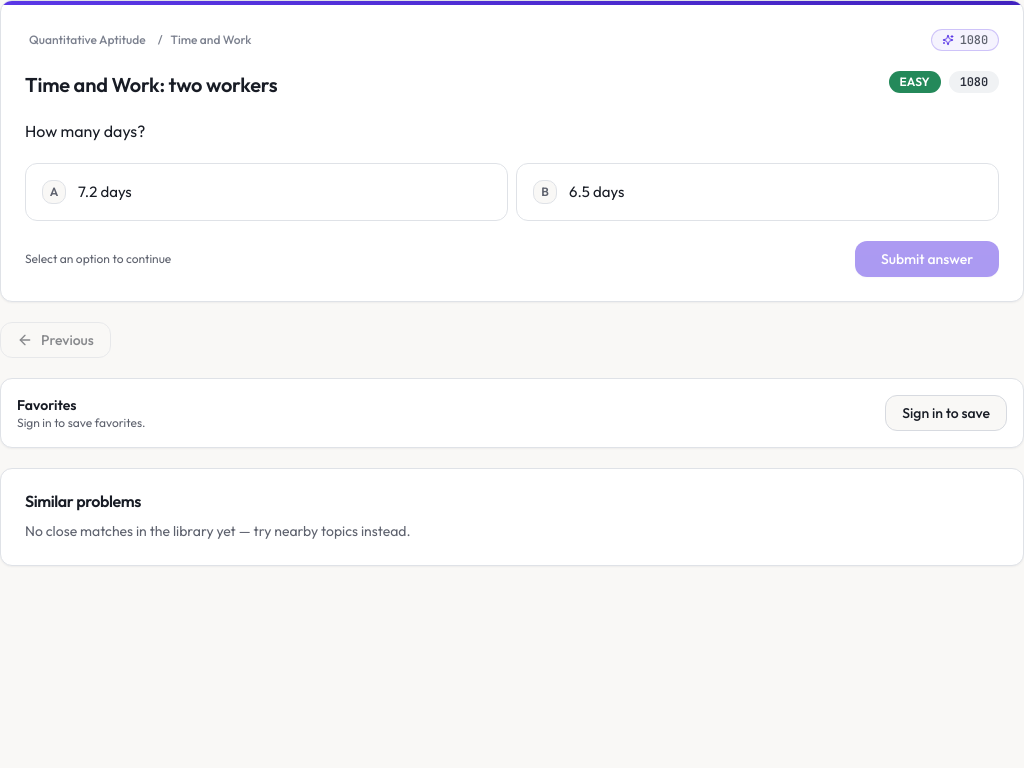
Scenario: PracticeView › reveals a correct result with the explanation
What coordinates should you click on to do the following:
click the text "7.2 days"
I would click on:
 (105, 192)
Its box is [78,182,132,201].
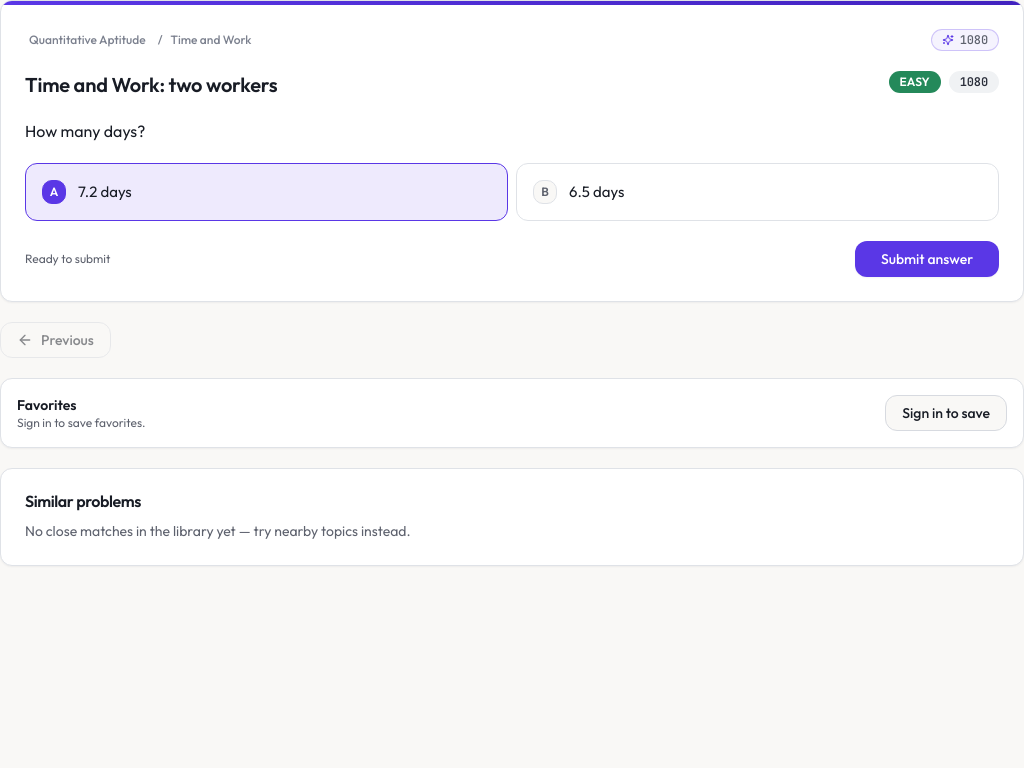
What coordinates should you click on to do the following:
click the button "Submit answer"
I would click on:
 (927, 259)
Its box is [855,241,999,277].
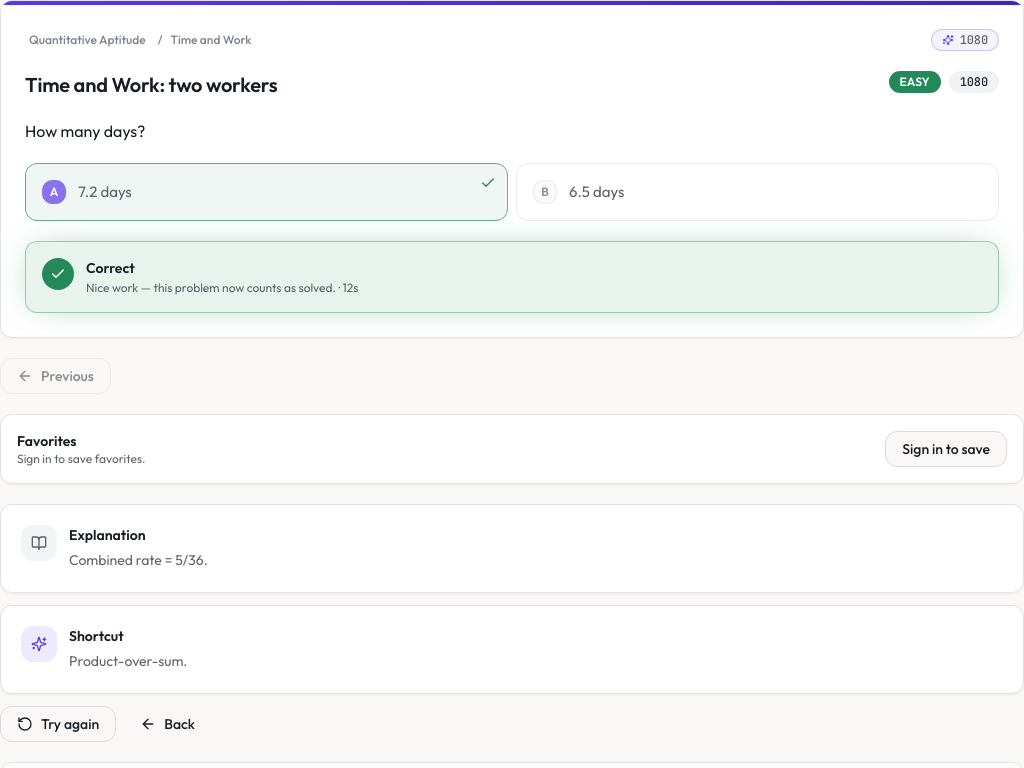
Now the text "Correct" is shown, box [86,259,135,277]
Now the text "Explanation" is shown, box [69,526,146,544]
Now the text "Shortcut" is shown, box [69,627,124,645]
